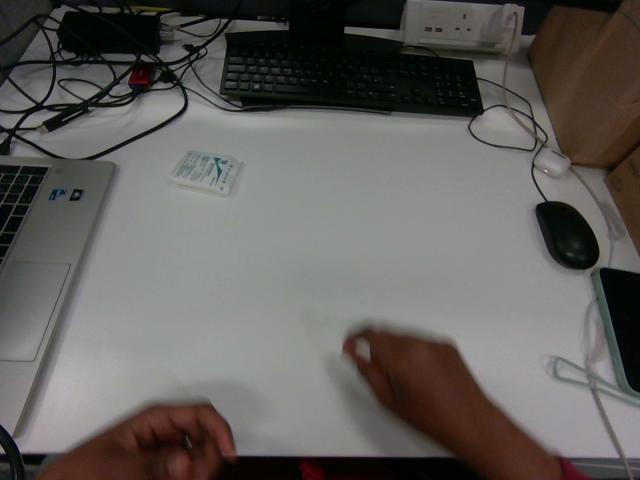gauze: (169, 151, 241, 195)
